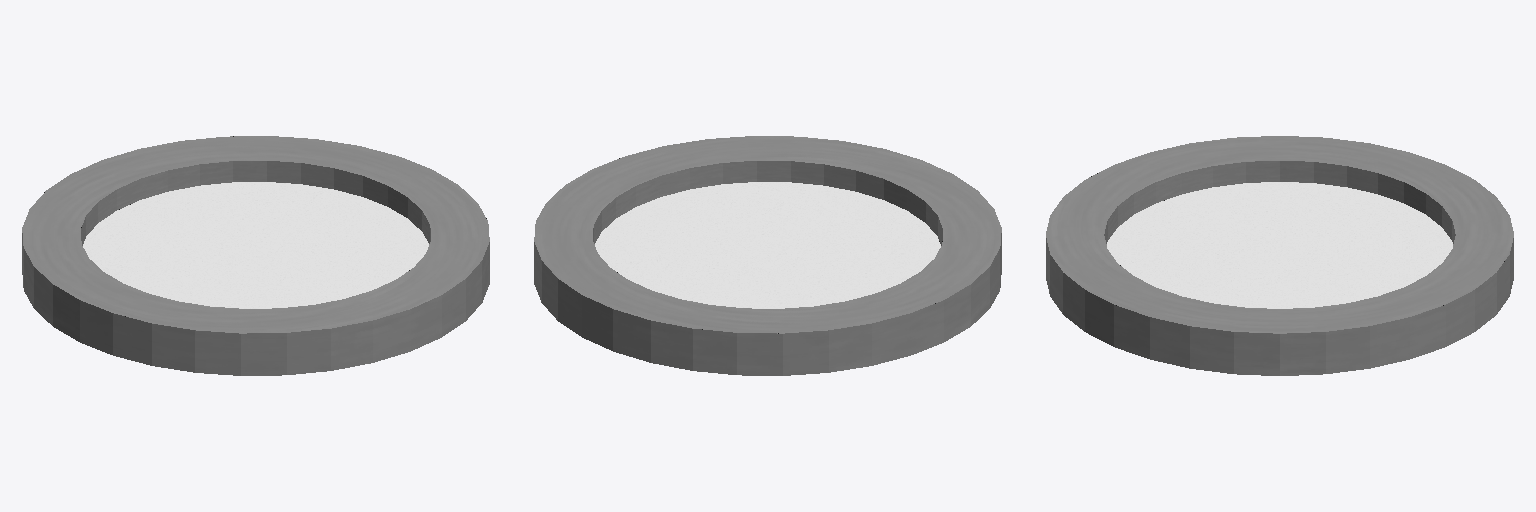
The picture shows the model from 3 angles: view 1: azimuth 30°, elevation 25°; view 2: azimuth 150°, elevation 25°; view 3: azimuth 270°, elevation 25°; orthographic projection.
Parts seen in each view (by area): view 1: circular-lamp; view 2: circular-lamp; view 3: circular-lamp.
Part boxes in pixels (left/top/right/bottom): circular-lamp: left=22, top=136, right=489, bottom=375; circular-lamp: left=534, top=136, right=1001, bottom=375; circular-lamp: left=1046, top=136, right=1513, bottom=375.
Bounding box in the file's own units: 2 × 0.2 × 2.
1 materials, 1 textured.